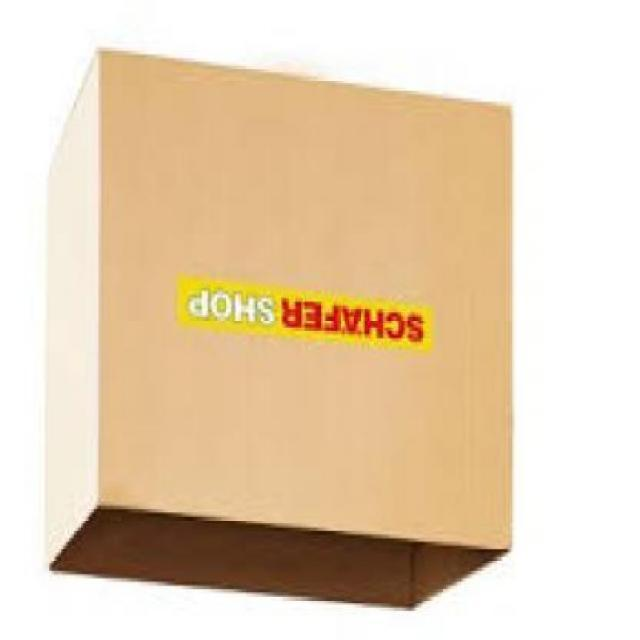box: (54, 53, 515, 616)
